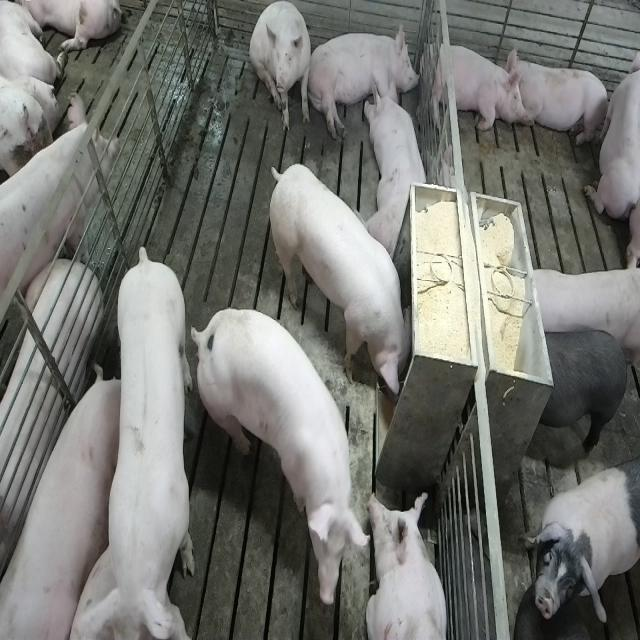Feeding: (264, 161, 411, 401)
Lateral_lying: (0, 260, 100, 606), (307, 21, 422, 142)
Sitting: (250, 2, 314, 134)
Standing: (193, 303, 374, 616), (91, 248, 198, 639), (0, 101, 117, 342), (525, 462, 638, 624), (533, 324, 632, 462), (522, 270, 637, 370)
Sternal_lying: (364, 490, 449, 640), (367, 74, 430, 258), (509, 51, 612, 150), (584, 35, 637, 226), (425, 36, 523, 135)
